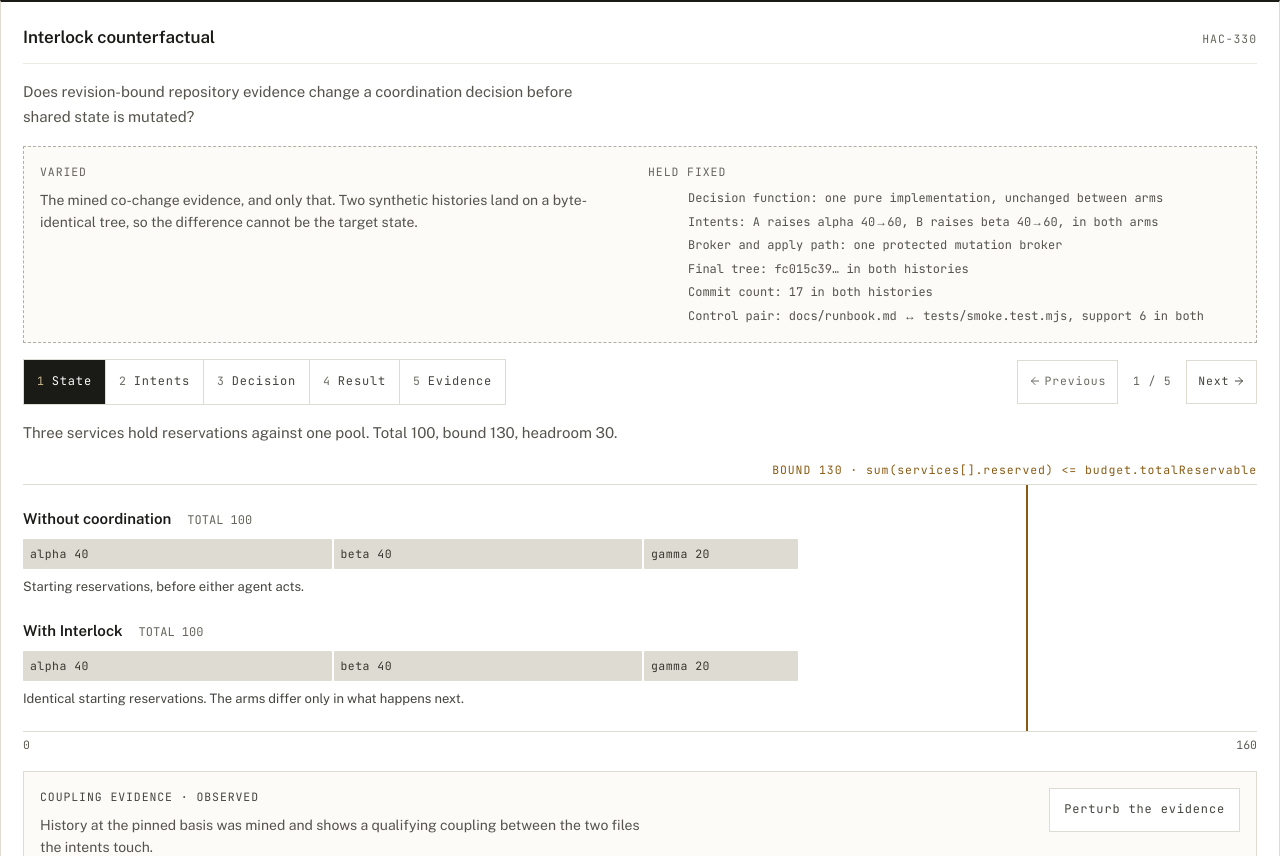
Scenario: InterlockCounterfactual › shows the decision only at and after the decision stage
Expected: the text "WITHHOLD_SERIALIZE" is not shown
Click the button "3 Decision": (256, 382) [203,360,309,404]
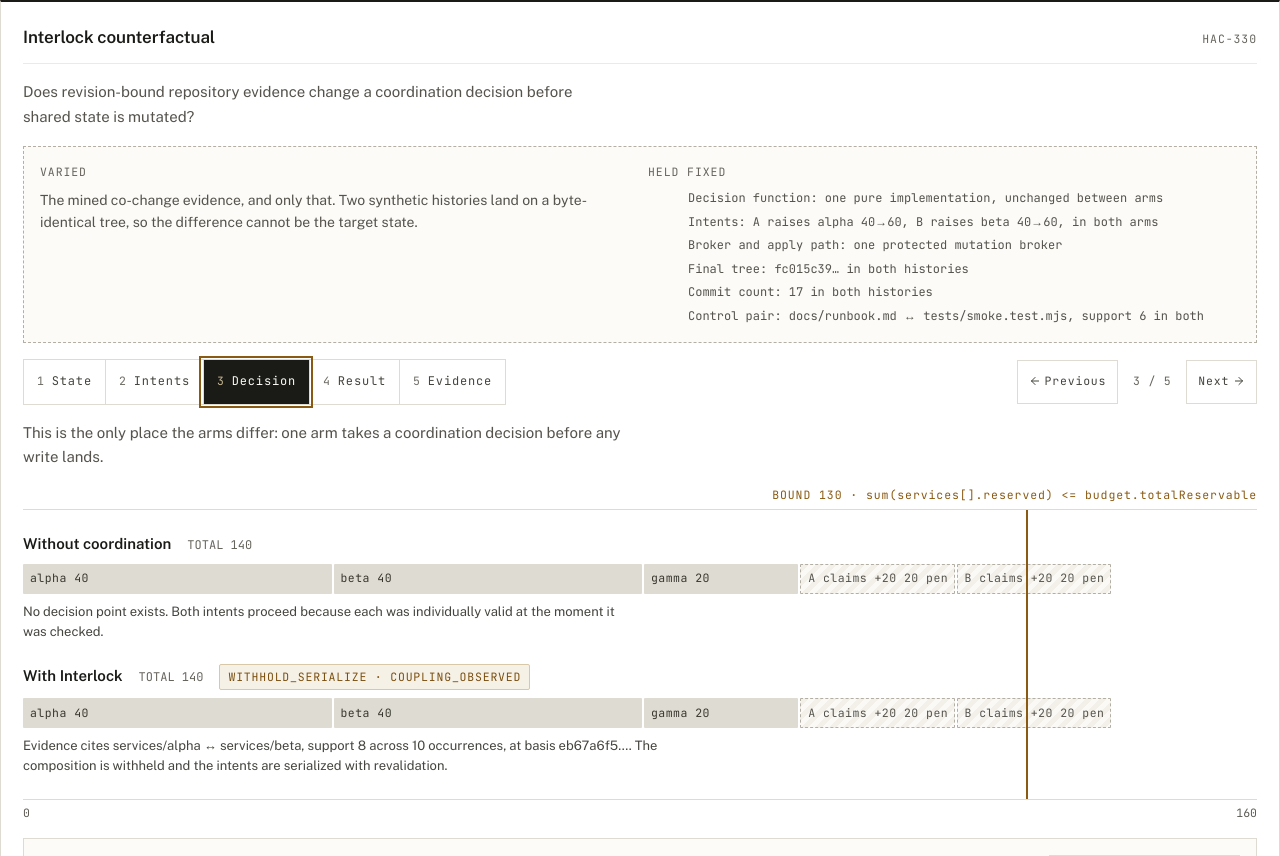
Now the text "WITHHOLD_SERIALIZE · COUPLING_OBSERVED" is shown, box [219,664,530,690]
